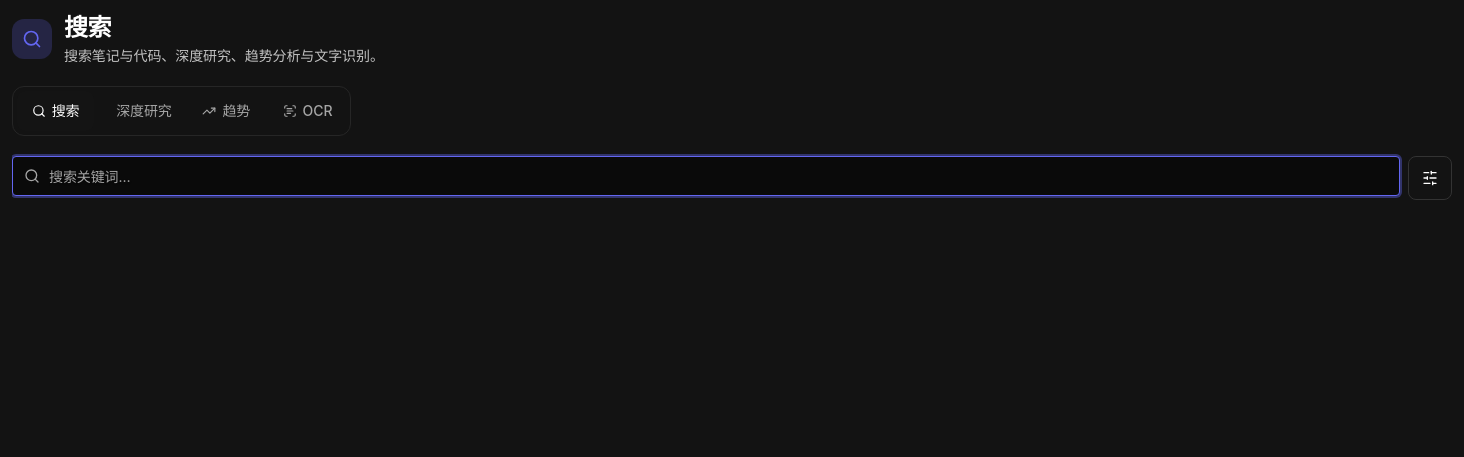
Test: Search page — usage scenarios › switches to the deep-research tab
Click the tab "深度研究" at (141, 111), box [98,91,184,131]
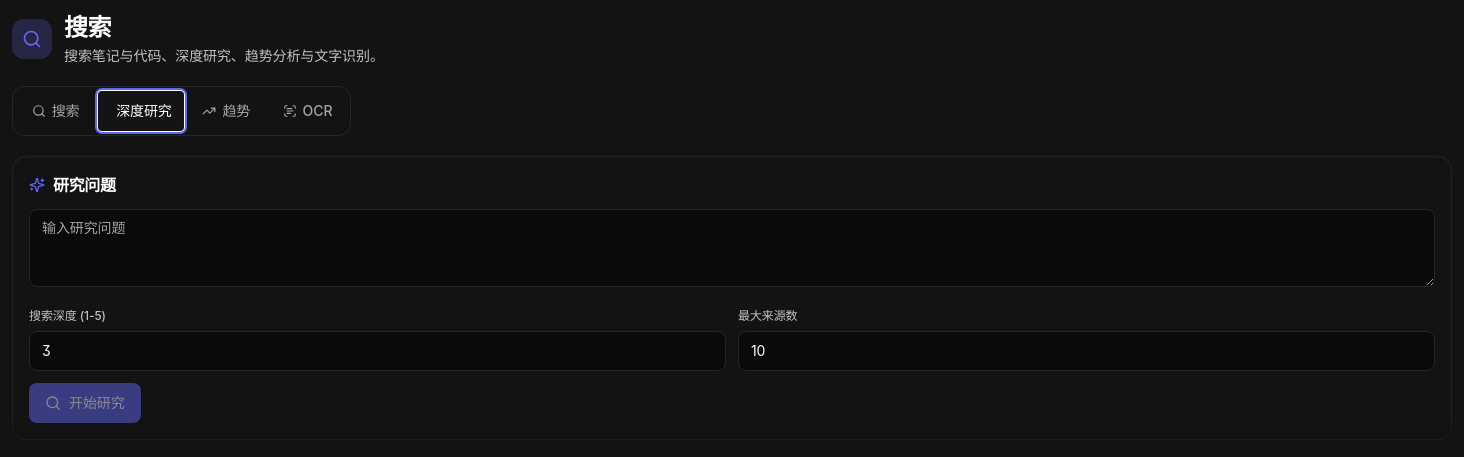
Expected: the heading "研究问题" is shown, [29,175,116,195]
